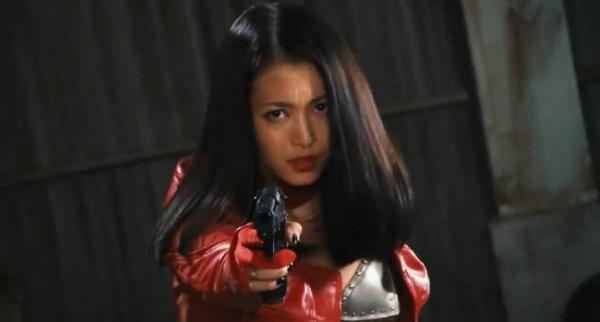Gun: (250, 183, 293, 304)
